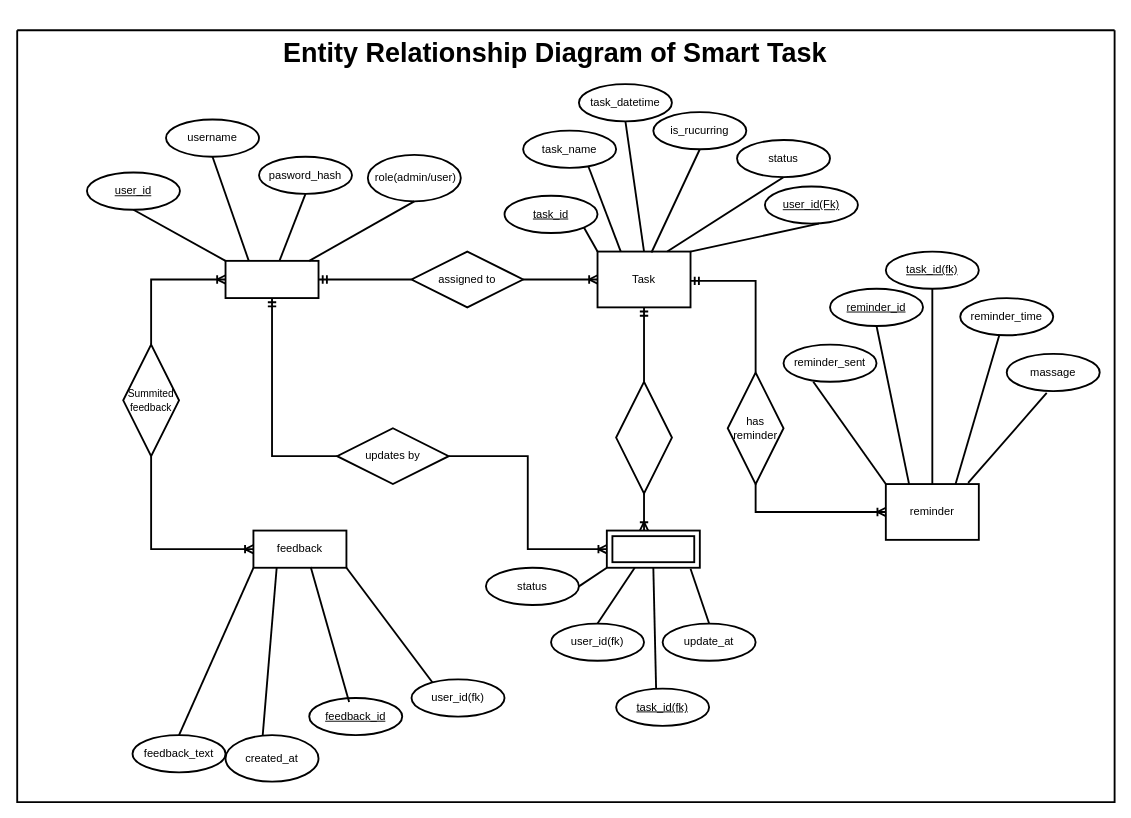
This 1131x818 diagram has some shape labels left out. The shapes that lost their labels are listed below. From the top down, each one's centre as x and y in pixels, then its label:
At point 271,279: "user".
At point 643,437: "has Update".
At point 652,548: "task_update".
